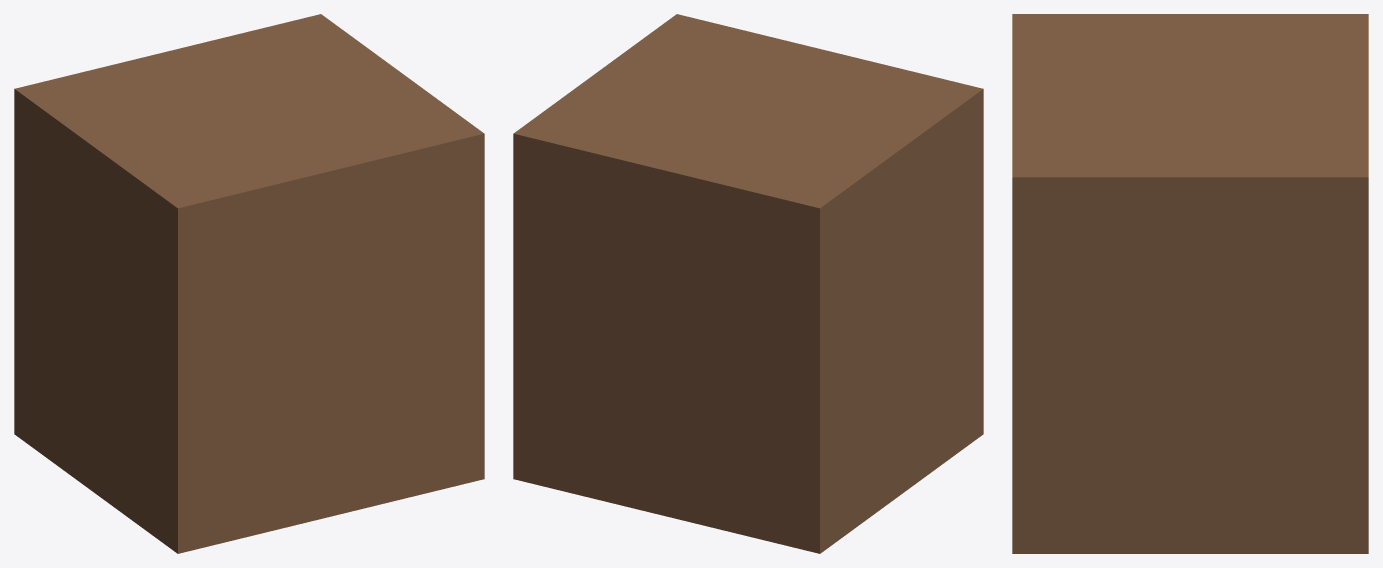
Rendered from prop_crate.glb.
3 views of the same model, side by side, from view 1: azimuth 30°, elevation 25°; view 2: azimuth 150°, elevation 25°; view 3: azimuth 270°, elevation 25° (orthographic). The views are drawn at different scales.
Visible parts, largest first — view 1: prop_crate; view 2: prop_crate; view 3: prop_crate.
Part boxes in pixels (x1=…): prop_crate: x1=14, y1=14, x2=484, y2=553; prop_crate: x1=513, y1=14, x2=983, y2=553; prop_crate: x1=1012, y1=14, x2=1368, y2=553.
Bounding box in the file's own units: 0.65 × 0.7 × 0.6.
1 material, 1 textured.
